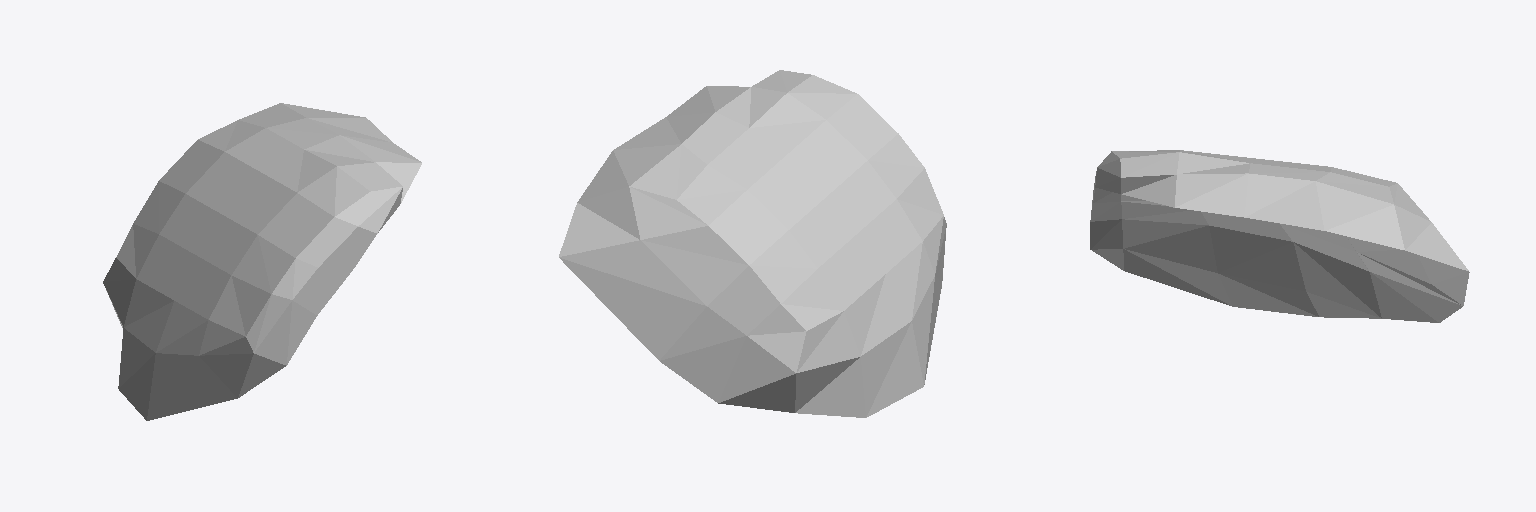
File: Tree Top Large 2.obj
3 views of the same model, side by side, from view 1: azimuth 30°, elevation 25°; view 2: azimuth 150°, elevation 25°; view 3: azimuth 270°, elevation 25° (orthographic).
Size of the model in its own units: 943 by 807 by 1167.